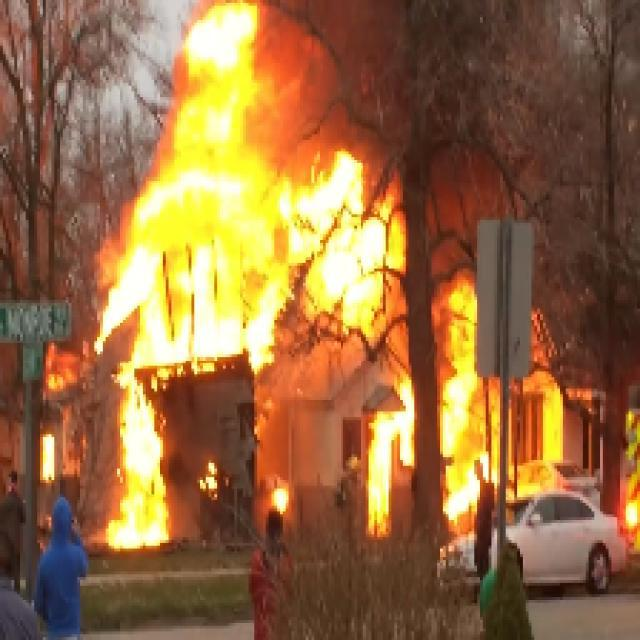Fire: (82, 9, 560, 552)
